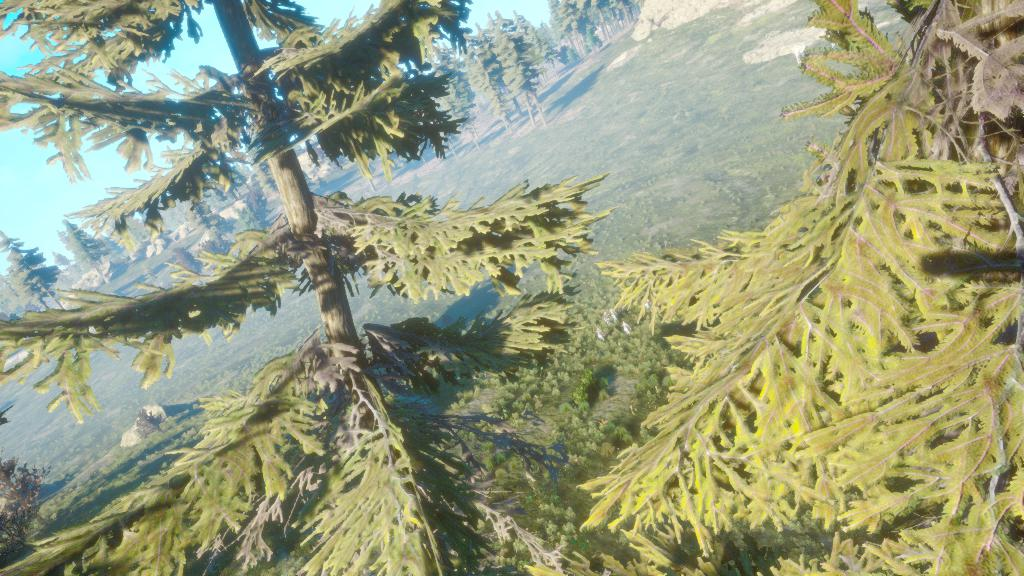human: (594, 327, 607, 342), (609, 307, 620, 323), (602, 311, 611, 325)
